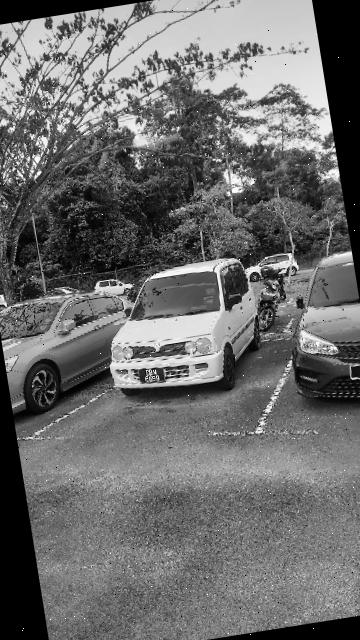License_Plate: (137, 364, 168, 388)
car: (94, 251, 284, 411), (1, 277, 149, 416), (276, 246, 360, 425)
